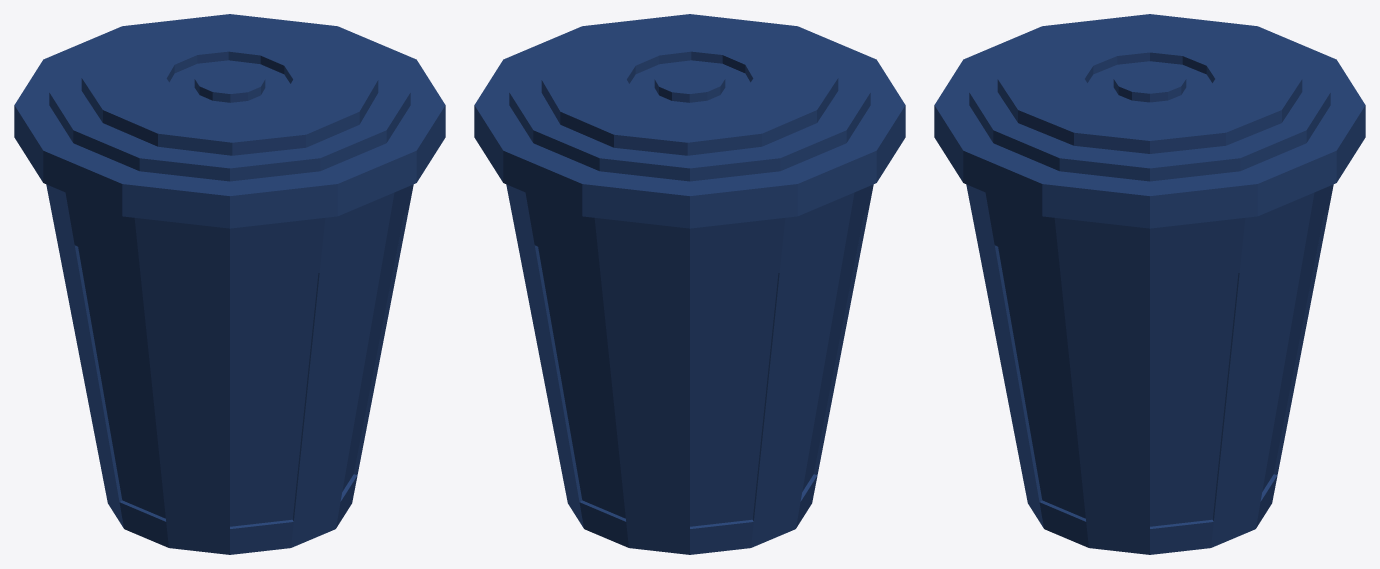
File: Basin_Bigger.fbx
3 views of the same model, side by side, from view 1: azimuth 30°, elevation 25°; view 2: azimuth 150°, elevation 25°; view 3: azimuth 270°, elevation 25° (orthographic).
Visible parts, largest first — view 1: Bigger Basin, Bigger Basin Lid; view 2: Bigger Basin, Bigger Basin Lid; view 3: Bigger Basin, Bigger Basin Lid.
Part boxes in pixels (box(x1,y1,x2,y2)): Bigger Basin: box(46, 184, 413, 554); Bigger Basin Lid: box(14, 14, 445, 228); Bigger Basin: box(506, 184, 873, 554); Bigger Basin Lid: box(474, 14, 905, 228); Bigger Basin: box(966, 184, 1333, 554); Bigger Basin Lid: box(934, 14, 1365, 228).
Bounding box in the file's own units: 0.8971 × 0.8971 × 0.9745.
